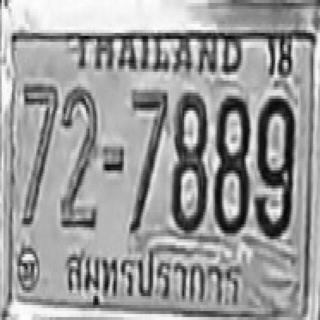N02: (59, 85, 97, 226)
N07: (129, 88, 167, 229), (21, 82, 58, 226)
N08: (170, 90, 207, 230), (213, 93, 248, 233)
N09: (254, 93, 293, 236)
P57: (60, 240, 242, 312)
